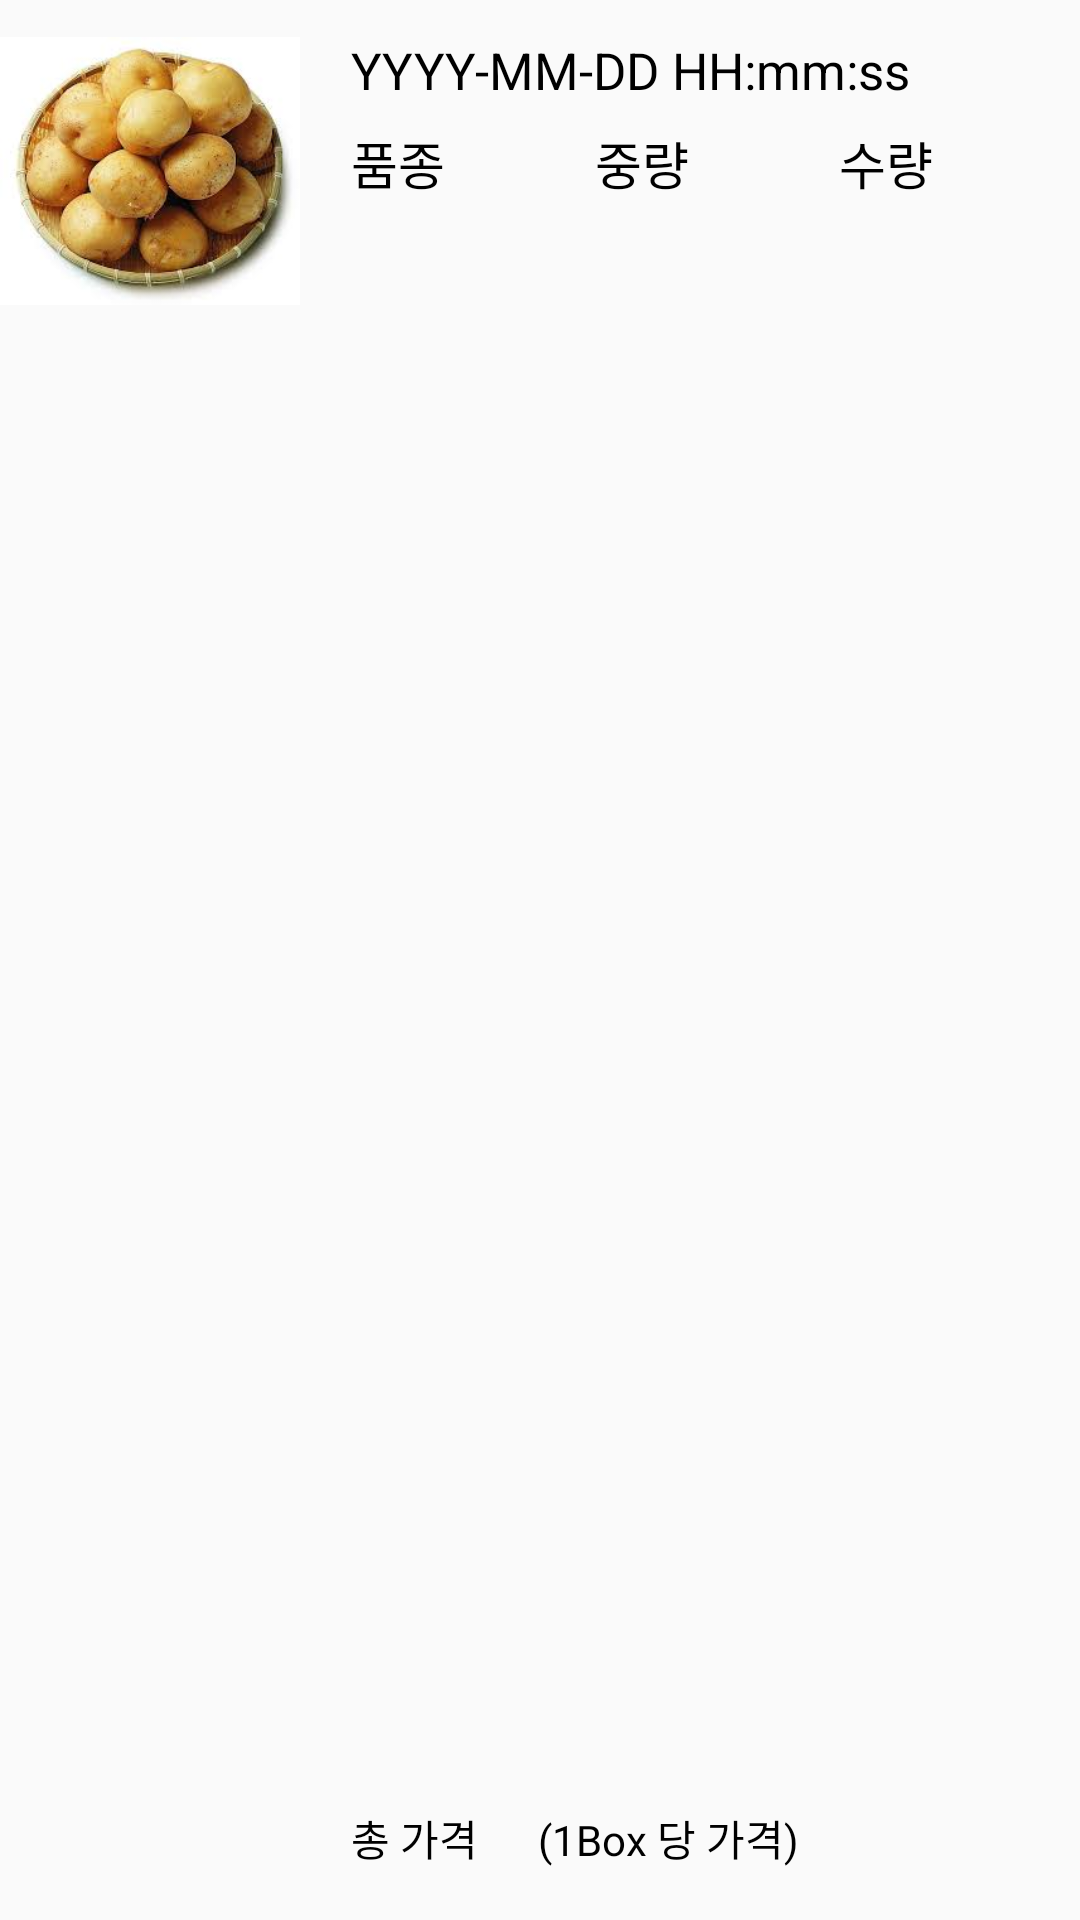

Named icons in this screenshot (1080px×1920px) and their centers, (x,y):
potato: (152,172)
